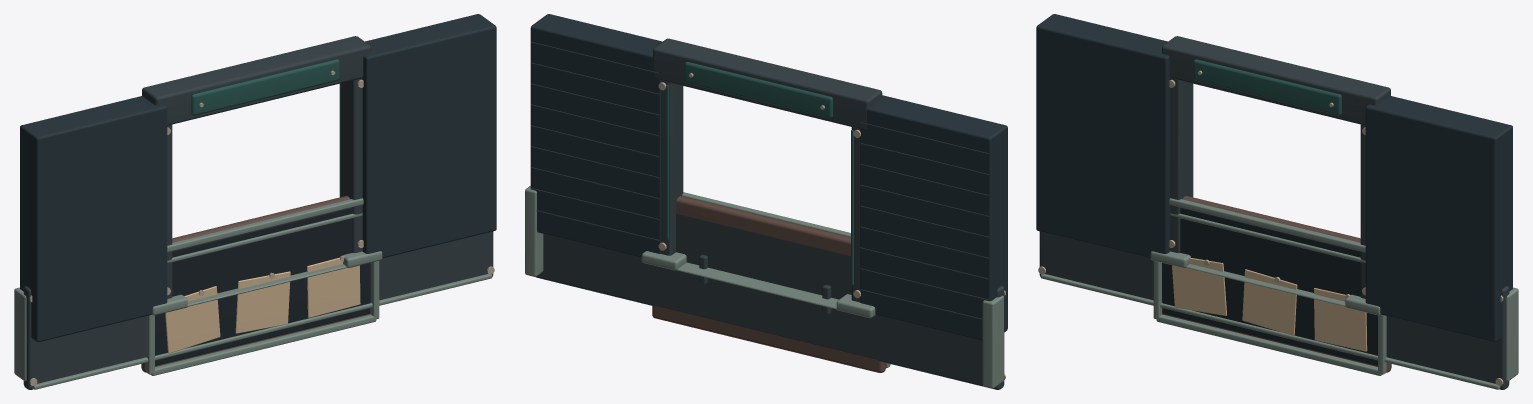
File: city-wayfinding.glb
The picture shows the model from 3 angles, left to right: view 1: azimuth 30°, elevation 25°; view 2: azimuth 150°, elevation 25°; view 3: azimuth 330°, elevation 25°; orthographic projection.
Parts seen in each view (by area): view 1: club-exit-frame mesh, club-archive mesh, club-score-frame mesh; view 2: club-exit-frame mesh, club-score-frame mesh, club-archive mesh; view 3: club-exit-frame mesh, club-archive mesh, club-score-frame mesh.
Boxes of the visible parts, <box> form: club-exit-frame mesh: <box>20,14,496,342</box>; club-archive mesh: <box>141,196,379,375</box>; club-score-frame mesh: <box>14,213,494,389</box>; club-exit-frame mesh: <box>530,14,1007,340</box>; club-score-frame mesh: <box>525,186,1005,389</box>; club-archive mesh: <box>652,192,890,372</box>; club-exit-frame mesh: <box>1036,14,1512,342</box>; club-archive mesh: <box>1153,196,1391,375</box>; club-score-frame mesh: <box>1038,213,1518,389</box>.
Bounding box in the file's own units: 5.64 × 3.19 × 0.48.
